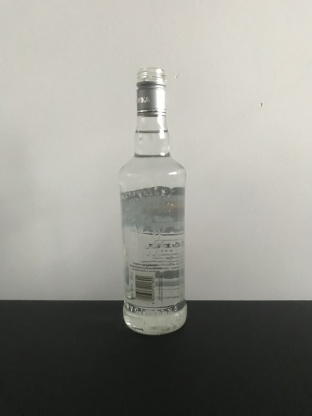nakretka: (134, 65, 168, 118)
